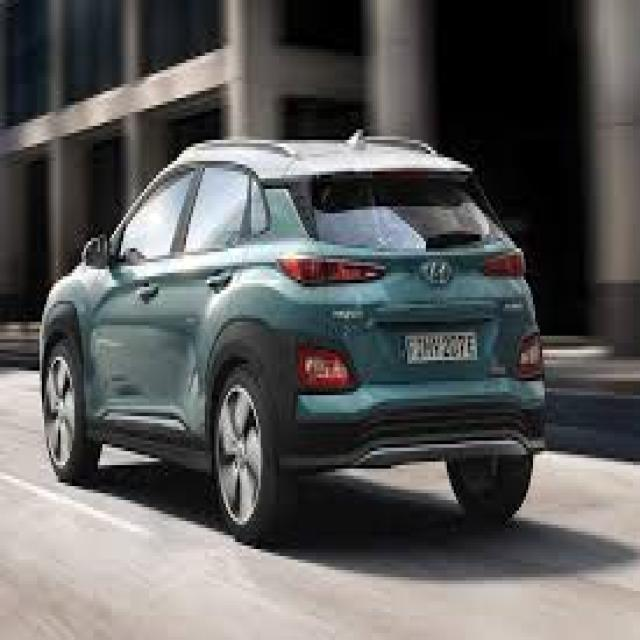car: (41, 142, 546, 516)
